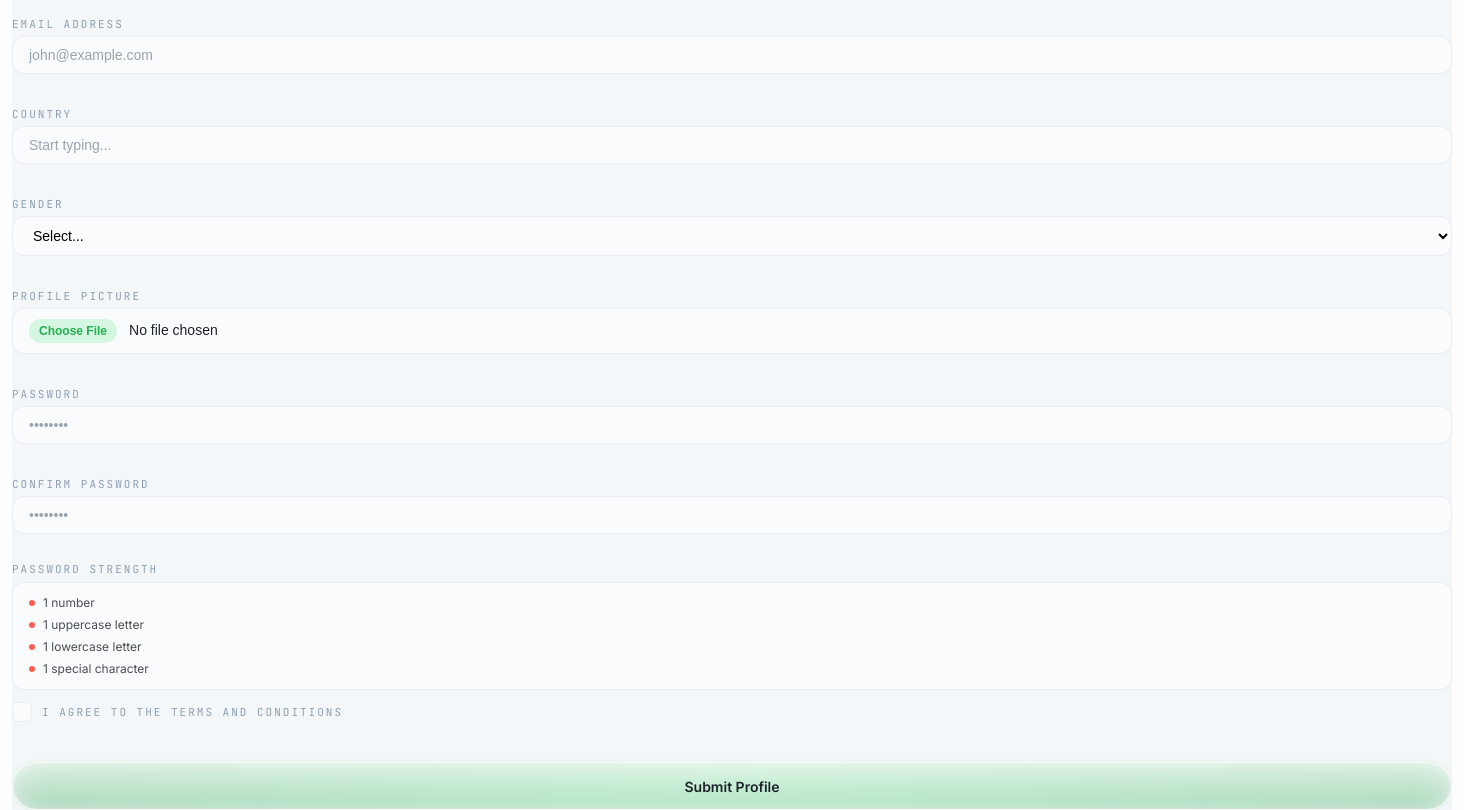
it: UncontrolledForm › should show validation errors on invalid submit
(page scrolled)
Click the button "Submit Profile".
click(732, 786)  # box [12, 762, 1452, 809]
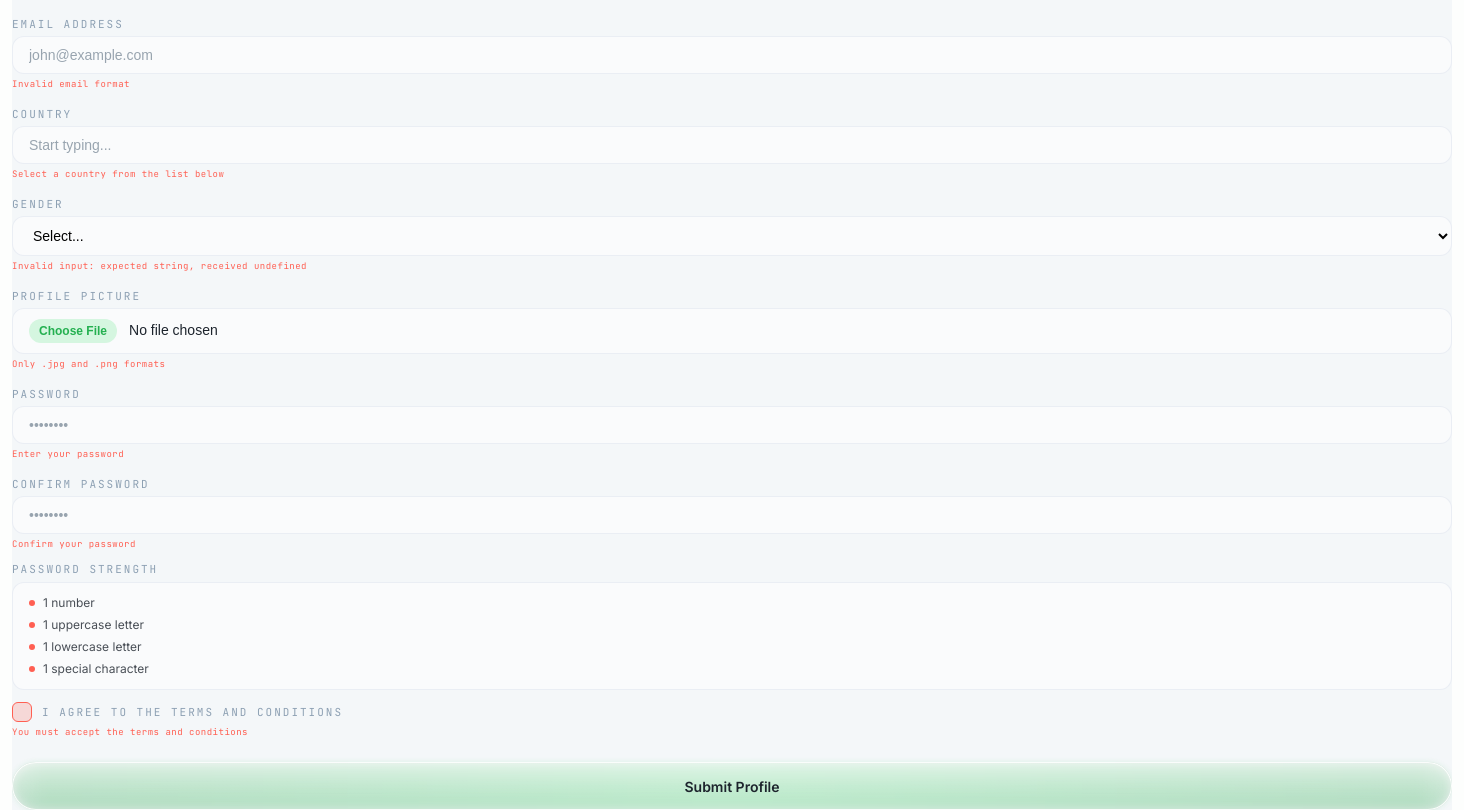
Now the text "Enter your password" is shown, box [12, 448, 124, 460]
